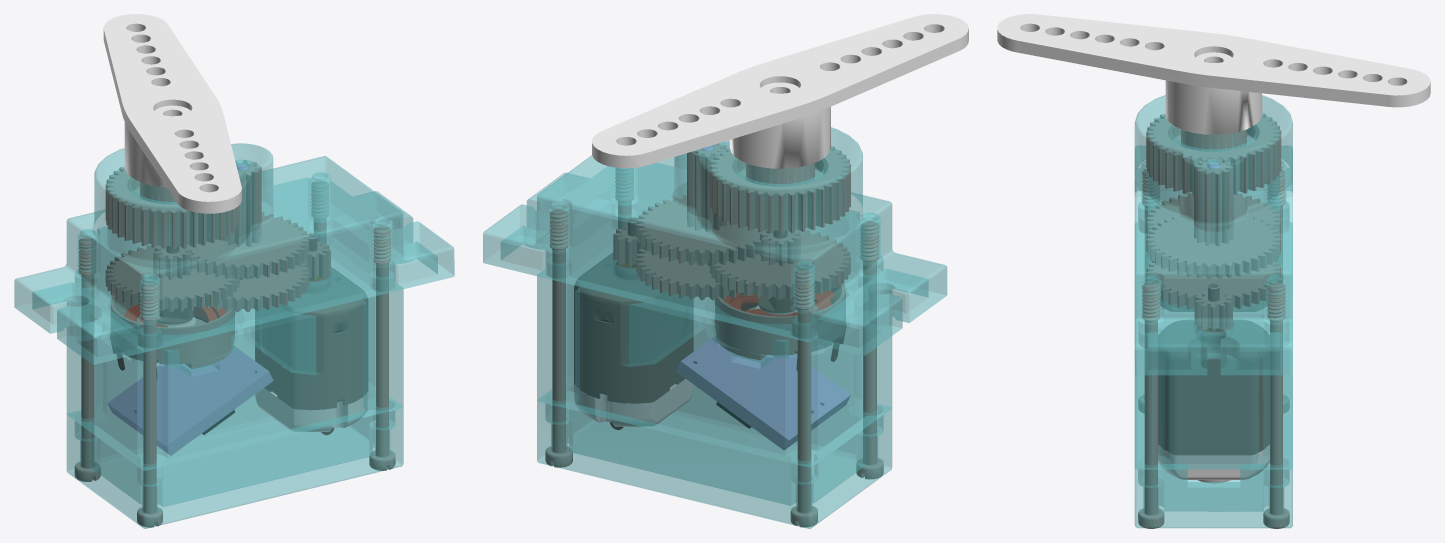
The model's file is servo.glb.
The picture shows the model from 3 angles, left to right: view 1: azimuth 30°, elevation 25°; view 2: azimuth 150°, elevation 25°; view 3: azimuth 270°, elevation 25°; orthographic projection. The views are drawn at different scales.
Parts seen in each view (by area): view 1: NAUO12, NAUO1, NAUO13, NAUO18, NAUO7, NAUO6, NAUO11, NAUO3, NAUO19, NAUO24, NAUO14, NAUO16 (+7 smaller); view 2: NAUO12, NAUO1, NAUO13, NAUO18, NAUO7, NAUO11, NAUO6, NAUO3, NAUO19, NAUO24, NAUO15, NAUO17 (+7 smaller); view 3: NAUO12, NAUO18, NAUO1, NAUO7, NAUO13, NAUO11, NAUO19, NAUO16, NAUO17, NAUO22, NAUO20, NAUO24 (+3 smaller).
Part boxes in pixels (<box>): NAUO12: <box>14,143,454,364</box>; NAUO1: <box>66,225,403,470</box>; NAUO13: <box>66,393,403,528</box>; NAUO18: <box>103,14,241,213</box>; NAUO7: <box>255,267,368,435</box>; NAUO6: <box>107,346,273,455</box>; NAUO11: <box>105,167,239,248</box>; NAUO3: <box>110,295,234,378</box>; NAUO19: <box>179,212,309,279</box>; NAUO24: <box>105,245,239,311</box>; NAUO14: <box>137,283,162,527</box>; NAUO16: <box>369,226,395,470</box>; NAUO12: <box>483,127,947,355</box>; NAUO1: <box>537,209,892,467</box>; NAUO13: <box>537,385,892,528</box>; NAUO18: <box>592,14,968,168</box>; NAUO7: <box>574,253,693,429</box>; NAUO11: <box>709,146,850,233</box>; NAUO6: <box>676,336,850,450</box>; NAUO3: <box>714,283,845,370</box>; NAUO19: <box>636,195,766,265</box>; NAUO24: <box>709,229,850,299</box>; NAUO15: <box>790,269,817,527</box>; NAUO17: <box>545,209,572,467</box>; NAUO12: <box>1134,95,1292,375</box>; NAUO18: <box>997,14,1430,134</box>; NAUO1: <box>1134,213,1292,469</box>; NAUO7: <box>1158,320,1269,483</box>; NAUO13: <box>1134,375,1292,528</box>; NAUO11: <box>1146,113,1281,195</box>; NAUO19: <box>1146,211,1281,278</box>; NAUO16: <box>1138,282,1164,528</box>; NAUO17: <box>1263,282,1289,528</box>; NAUO22: <box>1146,260,1281,309</box>; NAUO20: <box>1194,158,1233,246</box>; NAUO24: <box>1146,193,1281,234</box>.
Bounding box in the file's own units: 0.032 × 0.032 × 0.0329.
